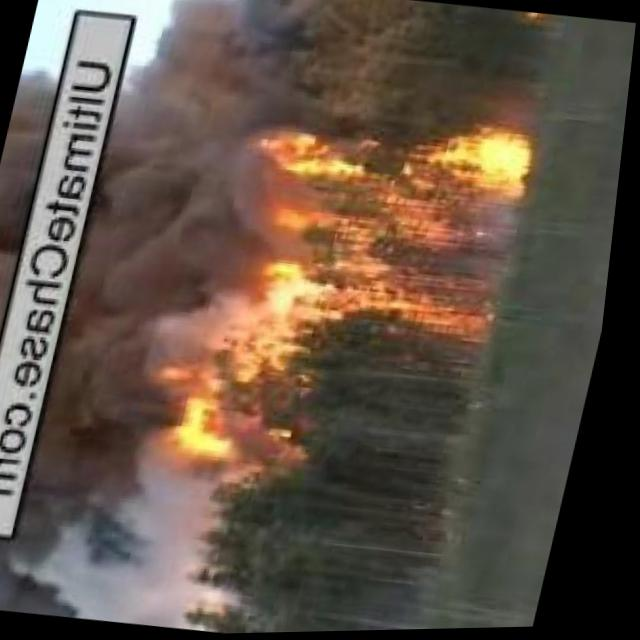Fire: (212, 98, 551, 347), (143, 341, 319, 476)
